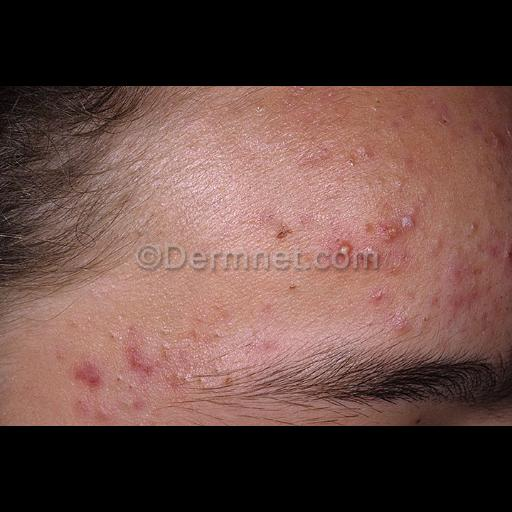Skin_Lesion: (378, 216, 420, 244), (162, 350, 190, 388), (124, 344, 154, 378), (70, 362, 106, 390), (73, 402, 111, 424), (346, 142, 374, 170), (296, 90, 348, 102), (484, 126, 508, 150), (274, 222, 296, 248), (332, 238, 352, 264), (385, 252, 411, 272), (438, 289, 464, 309), (360, 244, 382, 266), (392, 311, 412, 335), (476, 241, 498, 261), (430, 96, 452, 116), (205, 326, 229, 344), (256, 336, 274, 360), (308, 146, 332, 164), (252, 213, 282, 227), (476, 309, 490, 339), (132, 396, 152, 416), (446, 263, 464, 285), (468, 262, 486, 284), (416, 186, 436, 202), (426, 238, 444, 254), (388, 116, 406, 132), (498, 242, 512, 262), (124, 324, 142, 338), (196, 376, 210, 394), (489, 181, 509, 193), (220, 378, 240, 390), (218, 308, 234, 322), (370, 288, 384, 304), (467, 221, 481, 237), (286, 280, 302, 294), (437, 114, 451, 128), (361, 318, 375, 330), (420, 314, 430, 328), (390, 176, 404, 186), (52, 354, 70, 360)
